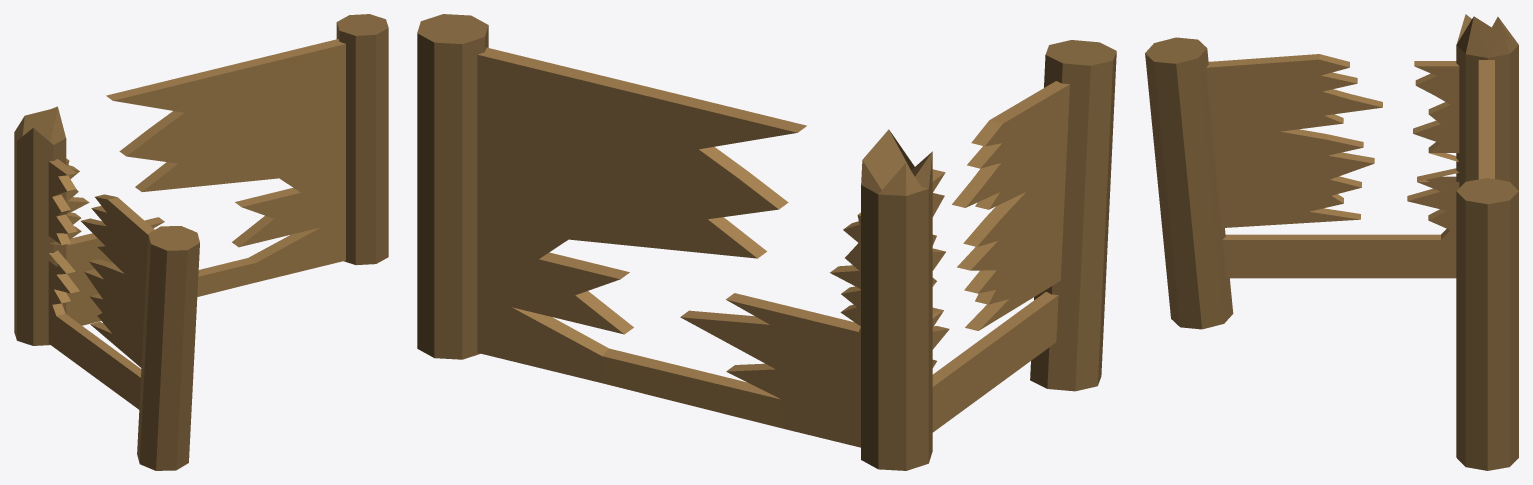
Rendered from RuinedHouseStuff3.fbx.
The picture shows the model from 3 angles, left to right: view 1: azimuth 30°, elevation 25°; view 2: azimuth 150°, elevation 25°; view 3: azimuth 270°, elevation 25°; orthographic projection. The views are drawn at different scales.
Visible parts, largest first — view 1: Cube.048; view 2: Cube.048; view 3: Cube.048.
Boxes of the visible parts, bbox=[...] form: Cube.048: bbox=[14, 14, 388, 470]; Cube.048: bbox=[417, 14, 1116, 470]; Cube.048: bbox=[1145, 14, 1518, 470].
Bounding box in the file's own units: 349 × 241 × 263.
